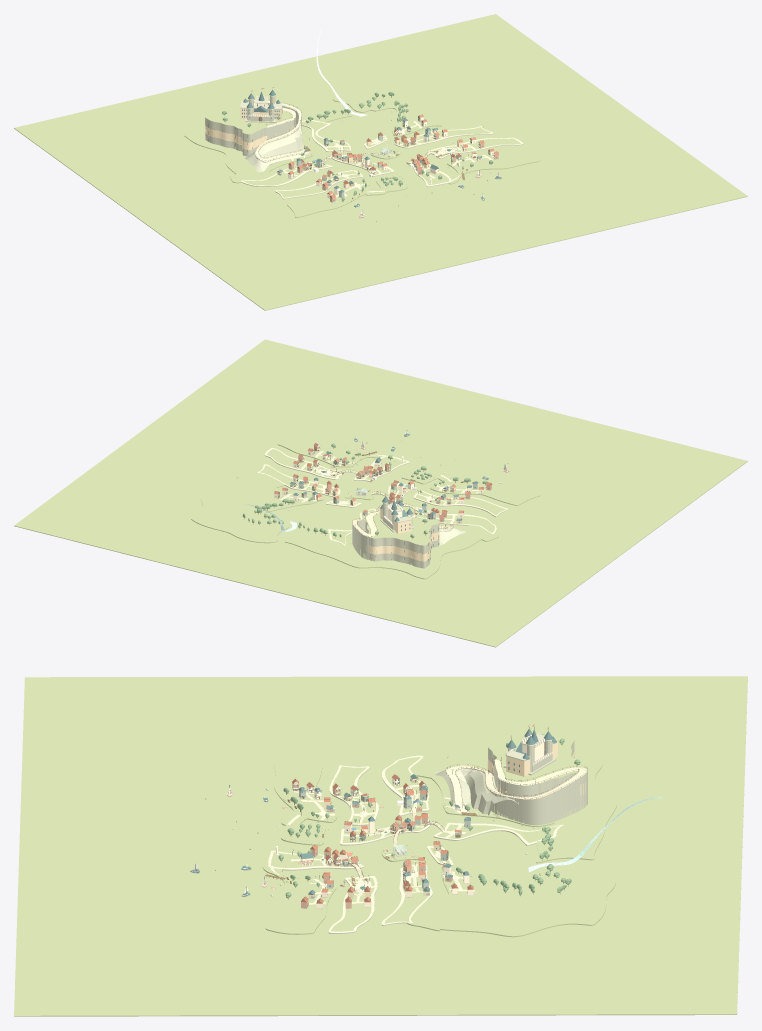
Rendered from european-water-town.glb.
3 views of the same model, one above another, from view 1: azimuth 30°, elevation 25°; view 2: azimuth 150°, elevation 25°; view 3: azimuth 270°, elevation 25° (orthographic). The views are drawn at different scales.
Visible parts, largest first — view 1: SM_Town_Meadow, SM_Town_Stone, SM_Town_Path, SM_Town_Cream, SM_Town_Leaf, SM_Town_Plaster, SM_Town_Roof, SM_Castle_Stone, SM_Town_Rose; view 2: SM_Town_Meadow, SM_Town_Stone, SM_Town_Path, SM_Town_Cream, SM_Town_Plaster, SM_Town_Leaf, SM_Town_Roof; view 3: SM_Town_Meadow, SM_Town_Stone, SM_Town_Path, SM_Town_Cream, SM_Town_Roof, SM_Town_Leaf, SM_Town_Wood, SM_Town_Rose, SM_Castle_Stone, SM_Town_Sage, SM_Town_Slate, SM_Town_Plaster.
Boxes of the visible parts, x1,y1,x2,y2 form: SM_Town_Meadow: (14, 14, 747, 310); SM_Town_Stone: (205, 103, 522, 210); SM_Town_Path: (241, 100, 522, 201); SM_Town_Cream: (241, 117, 523, 198); SM_Town_Leaf: (222, 92, 493, 201); SM_Town_Plaster: (205, 125, 481, 188); SM_Town_Roof: (288, 114, 498, 198); SM_Castle_Stone: (240, 96, 282, 122); SM_Town_Rose: (267, 124, 498, 202); SM_Town_Meadow: (14, 339, 747, 647); SM_Town_Stone: (264, 444, 507, 568); SM_Town_Path: (257, 448, 507, 545); SM_Town_Cream: (257, 444, 506, 545); SM_Town_Plaster: (290, 453, 461, 561); SM_Town_Leaf: (242, 443, 487, 537); SM_Town_Roof: (274, 443, 492, 517); SM_Town_Meadow: (14, 676, 747, 1016); SM_Town_Stone: (232, 740, 587, 933); SM_Town_Path: (268, 755, 587, 932); SM_Town_Cream: (268, 755, 562, 932); SM_Town_Roof: (292, 774, 473, 903); SM_Town_Leaf: (278, 734, 580, 898); SM_Town_Wood: (205, 745, 587, 904); SM_Town_Rose: (292, 759, 501, 908); SM_Castle_Stone: (503, 734, 558, 775); SM_Town_Sage: (293, 778, 470, 902); SM_Town_Slate: (266, 758, 567, 894); SM_Town_Plaster: (308, 752, 585, 897).
Bounding box in the file's own units: 404 × 42.96 × 369.
